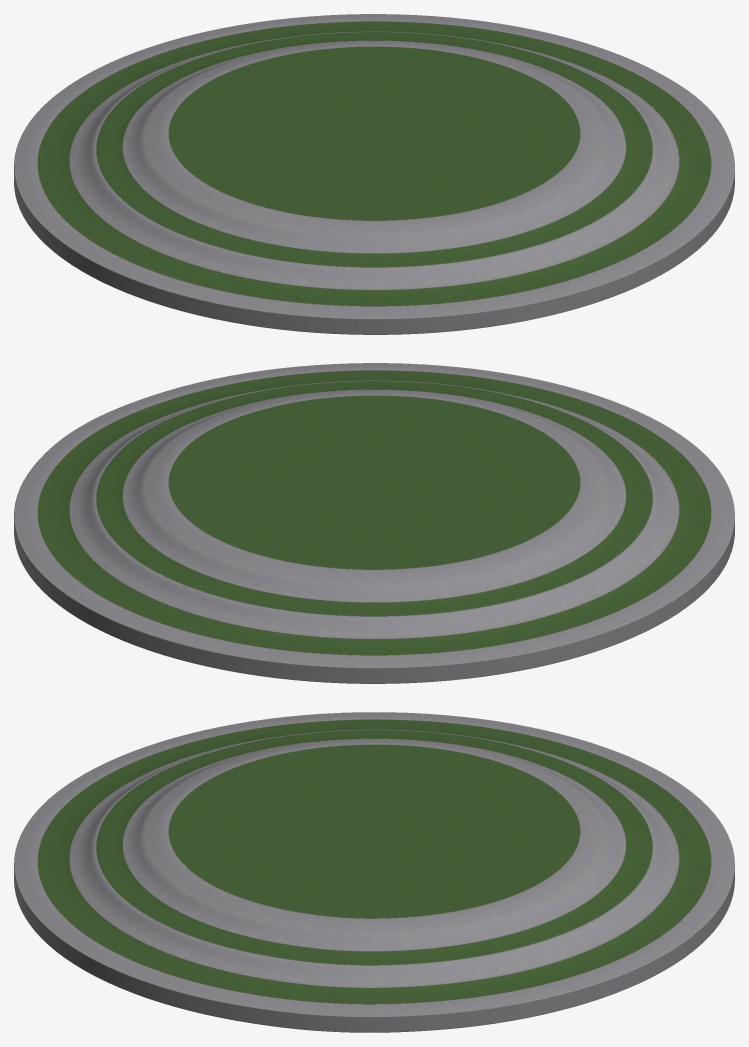
File: SM_Disc_Platform_01_b.fbx
3 renders of one model, top to bottom at view 1: azimuth 30°, elevation 25°; view 2: azimuth 150°, elevation 25°; view 3: azimuth 270°, elevation 25°, orthographic.
Visible parts, largest first — view 1: SM_Disc_Platform_01_b_LOD0; view 2: SM_Disc_Platform_01_b_LOD0; view 3: SM_Disc_Platform_01_b_LOD0.
Boxes of the visible parts, <box> form: SM_Disc_Platform_01_b_LOD0: <box>14,14,734,334</box>; SM_Disc_Platform_01_b_LOD0: <box>14,363,734,683</box>; SM_Disc_Platform_01_b_LOD0: <box>14,712,734,1032</box>.
Size of the model in its own units: 12001 by 12001 by 900.
Materials: 3 (3 with a texture image).
